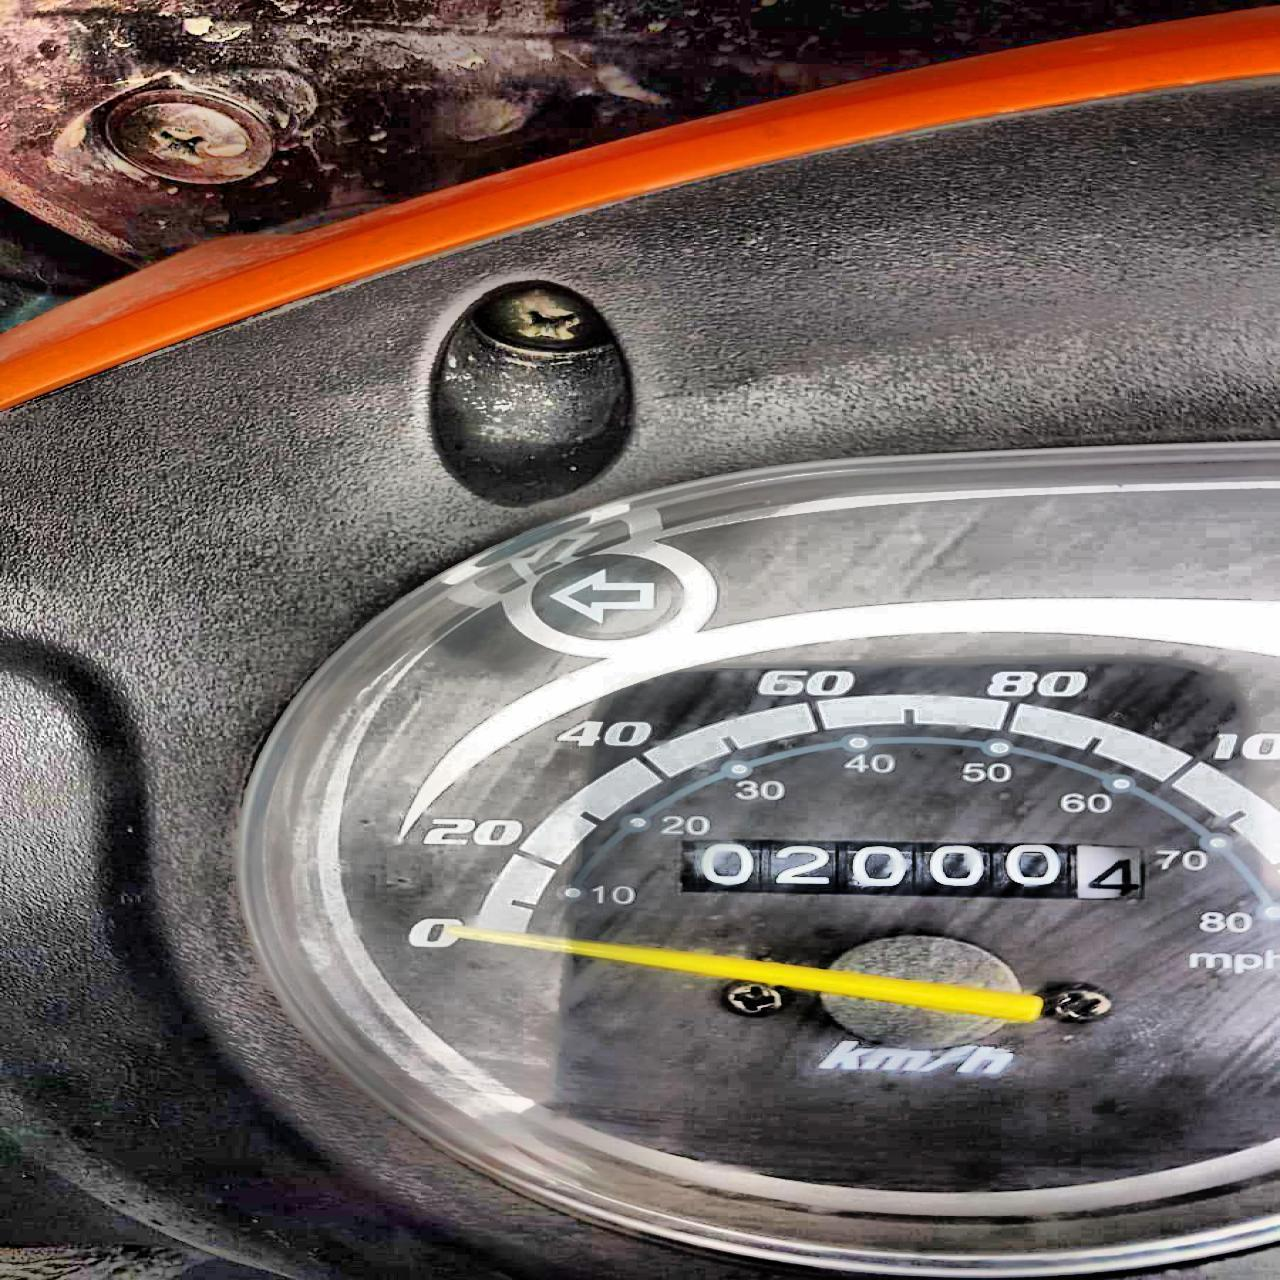0: (1001, 840, 1062, 888), (926, 843, 987, 888), (845, 845, 908, 888), (697, 843, 758, 887)
2: (772, 840, 831, 885)
4: (1084, 855, 1143, 899)
odometer: (672, 836, 1155, 903)
